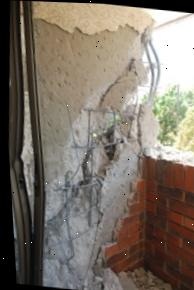spalling: (32, 19, 160, 290)
